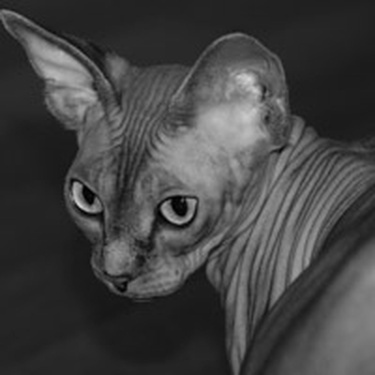cat: (2, 7, 370, 371)
